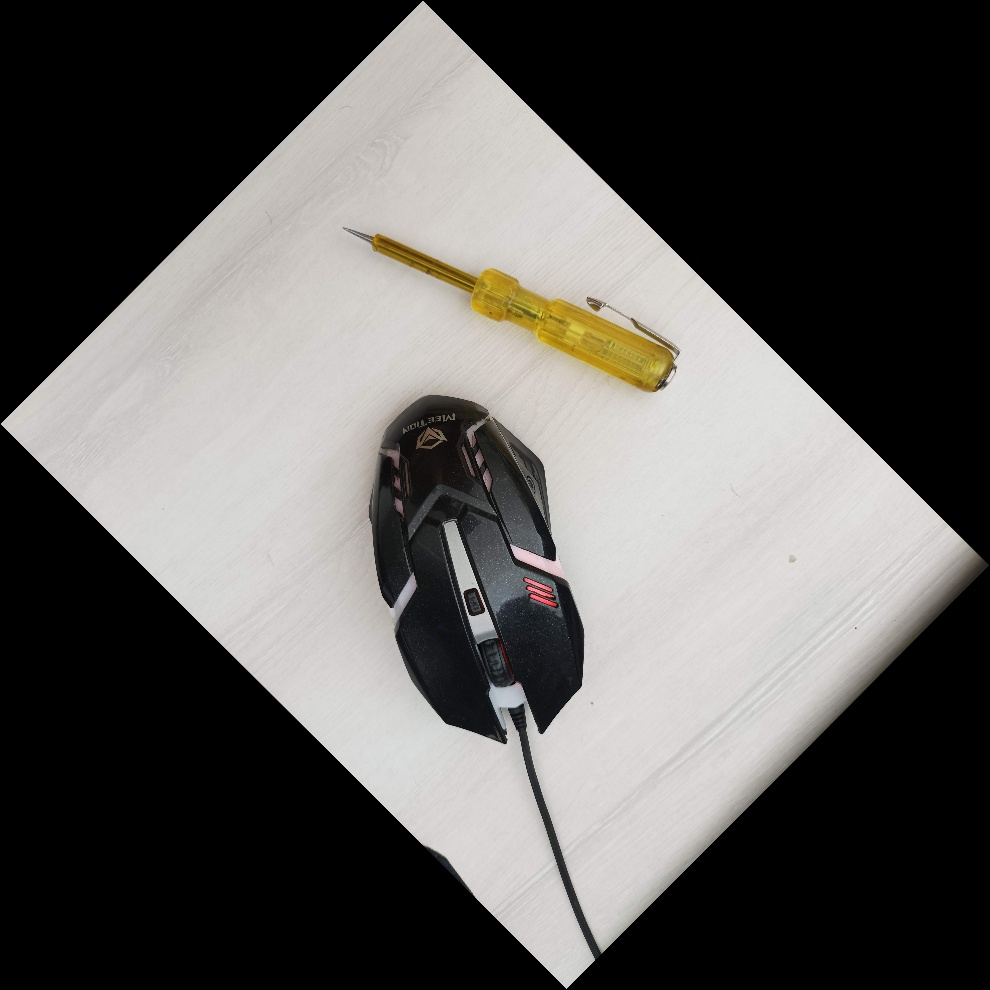mouse: (365, 392, 588, 746)
screwdriver: (335, 219, 684, 395)
